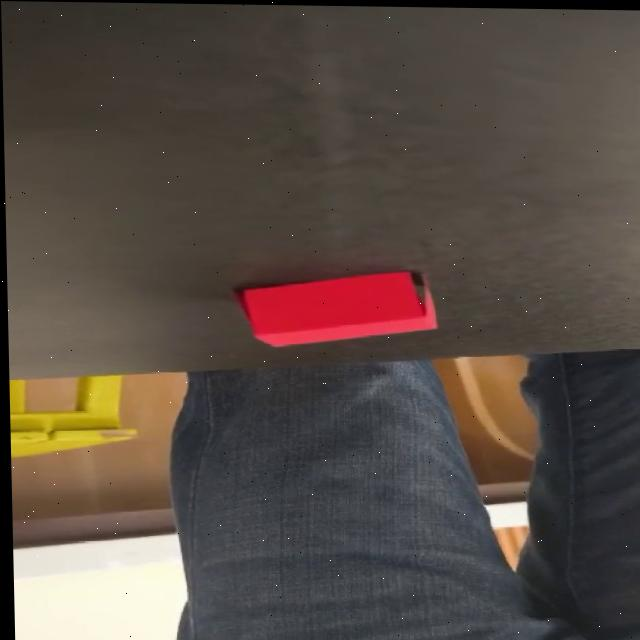red block: (237, 267, 440, 350)
